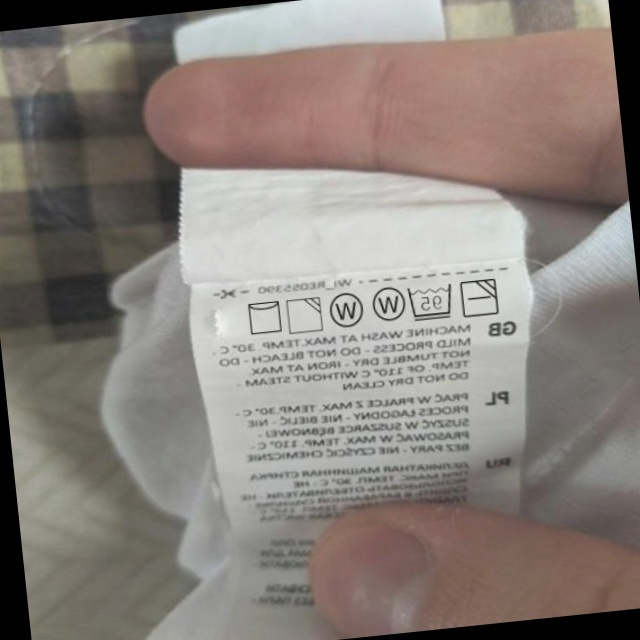95C: (405, 280, 457, 323)
dry_flat_in_shade: (458, 274, 502, 320)
line_dry: (243, 296, 285, 338)
shade_dry: (283, 294, 325, 336)
wet_clean: (326, 289, 366, 332), (368, 281, 407, 325)
